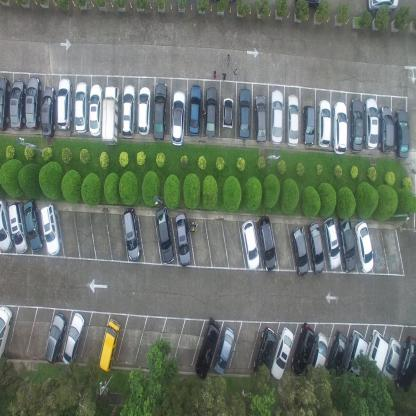car: (194, 317, 222, 380), (362, 328, 389, 387), (341, 329, 367, 389), (61, 311, 85, 368), (252, 326, 276, 382), (270, 326, 294, 381), (292, 321, 316, 376), (394, 335, 416, 394), (98, 318, 121, 373), (324, 330, 348, 382), (337, 213, 357, 273), (44, 312, 67, 364), (7, 200, 29, 254), (306, 332, 328, 386), (40, 204, 62, 257), (257, 214, 277, 272), (353, 219, 374, 273), (22, 199, 43, 253), (380, 337, 402, 388), (214, 325, 235, 376), (156, 206, 174, 264), (122, 206, 141, 260), (102, 82, 118, 146), (290, 226, 309, 277), (152, 80, 168, 140), (323, 216, 341, 269), (241, 218, 259, 270), (170, 89, 186, 147), (307, 222, 324, 275), (174, 211, 190, 266), (332, 101, 348, 156), (25, 76, 41, 131), (10, 78, 26, 132), (363, 97, 379, 150), (40, 86, 56, 139), (57, 76, 72, 132), (0, 198, 15, 254), (378, 105, 395, 154), (349, 96, 363, 154), (88, 83, 103, 137), (74, 80, 89, 134), (269, 89, 283, 146), (0, 305, 13, 366), (394, 108, 409, 160), (122, 80, 135, 138), (188, 84, 202, 136), (317, 98, 331, 149), (286, 94, 299, 148), (238, 87, 251, 139), (254, 93, 267, 144), (137, 84, 150, 134), (205, 85, 217, 138), (302, 103, 315, 147), (0, 75, 10, 131), (366, 0, 400, 15), (222, 96, 234, 130), (294, 0, 323, 12)
